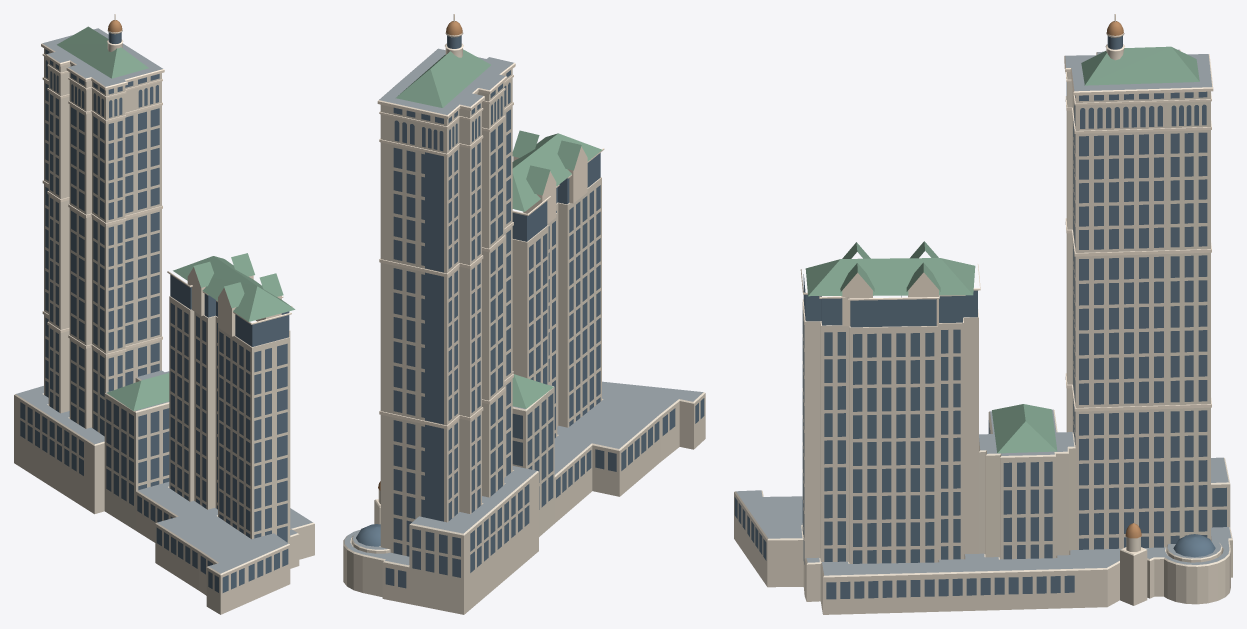
File: niagara-hilton-fallsview.glb
3 views of the same model, side by side, from view 1: azimuth 30°, elevation 25°; view 2: azimuth 150°, elevation 25°; view 3: azimuth 270°, elevation 25° (orthographic). The views are drawn at different scales.
Visible parts, largest first — view 1: Hilton Niagara Falls/Fallsview Hotel and Suites; view 2: Hilton Niagara Falls/Fallsview Hotel and Suites; view 3: Hilton Niagara Falls/Fallsview Hotel and Suites.
Part boxes in pixels (x1=…): Hilton Niagara Falls/Fallsview Hotel and Suites: x1=14, y1=14, x2=314, y2=614; Hilton Niagara Falls/Fallsview Hotel and Suites: x1=343, y1=14, x2=705, y2=614; Hilton Niagara Falls/Fallsview Hotel and Suites: x1=734, y1=14, x2=1232, y2=614.
Size of the model in its own units: 53.49 by 180 by 146.
